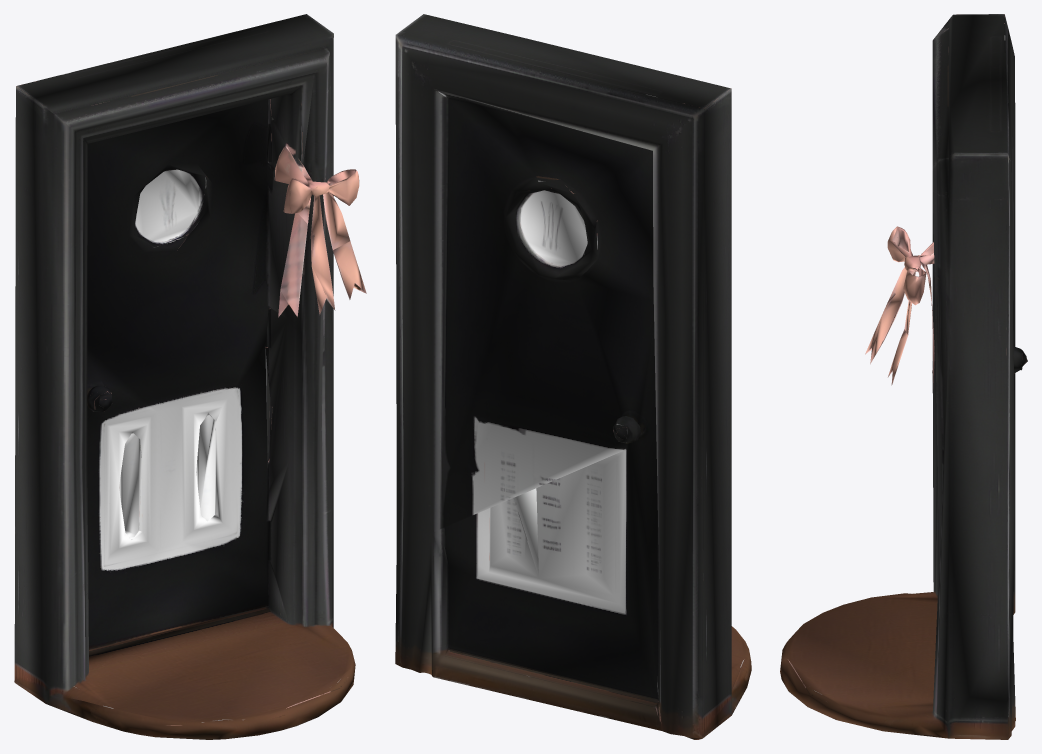
File: regr_studio_door.fbx
The picture shows the model from 3 angles, left to right: view 1: azimuth 30°, elevation 25°; view 2: azimuth 150°, elevation 25°; view 3: azimuth 270°, elevation 25°; orthographic projection. The views are drawn at different scales.
Parts seen in each view (by area): view 1: Mesh1.0; view 2: Mesh1.0; view 3: Mesh1.0.
Boxes of the visible parts, x1,y1,x2,y2 form: Mesh1.0: [14, 14, 366, 739]; Mesh1.0: [395, 14, 751, 739]; Mesh1.0: [780, 14, 1027, 739].
Bounding box in the file's own units: 98.85 × 190 × 72.76.
1 material, 1 textured.
